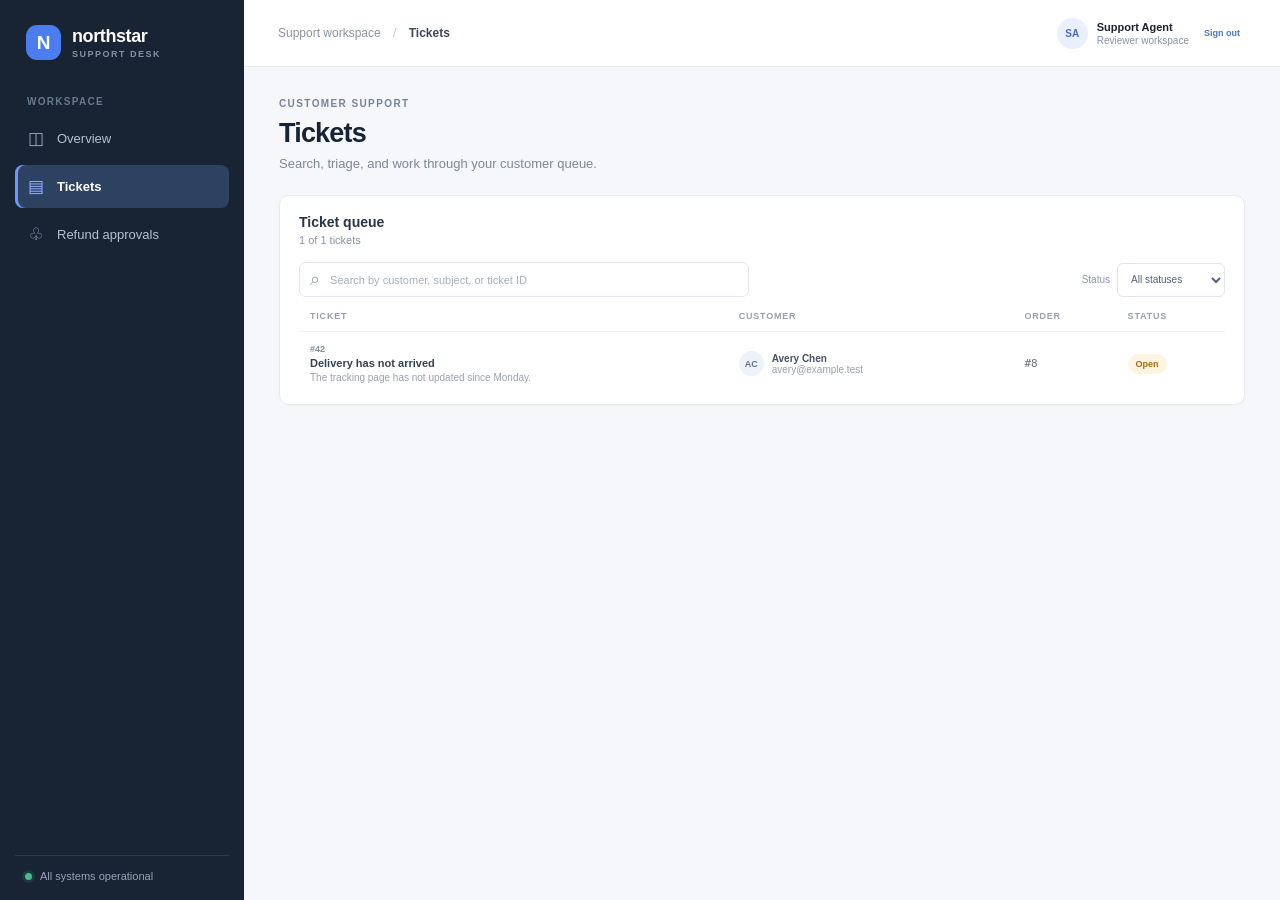
Scenario: support dashboard › searches and filters the ticket queue
The width and height of the screenshot is (1280, 900).
expect the text "Delivery has not arrived" is shown: met, box [310,357,435,369]
Type "nobody" into the field named "Search tickets" at (533, 280), box [328,273,738,287]
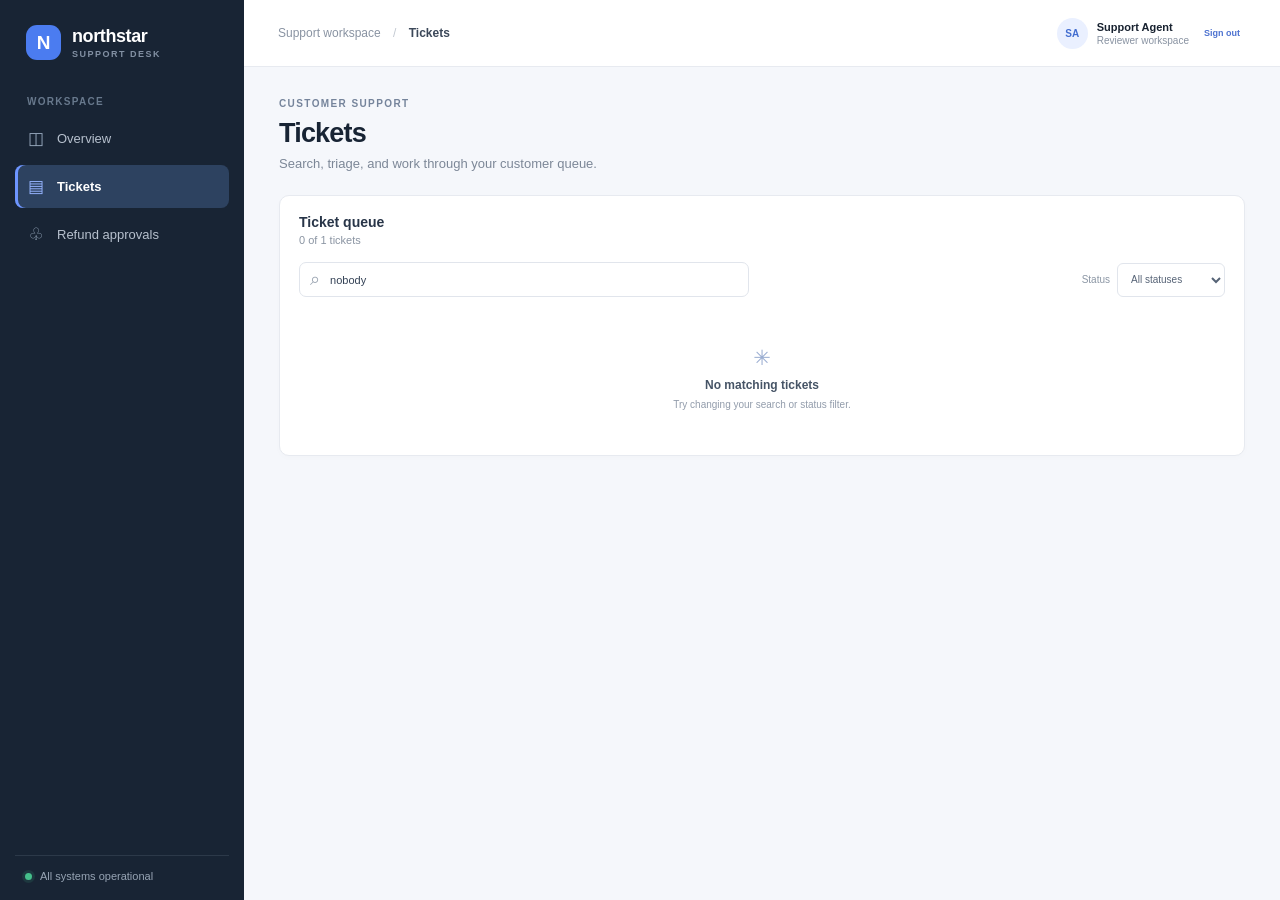
expect the text "No matching tickets" is shown: met, box [705,378,819,392]
Replace the text in the field named "Search tickets" with "avery" at (533, 280), box [328,273,738,287]
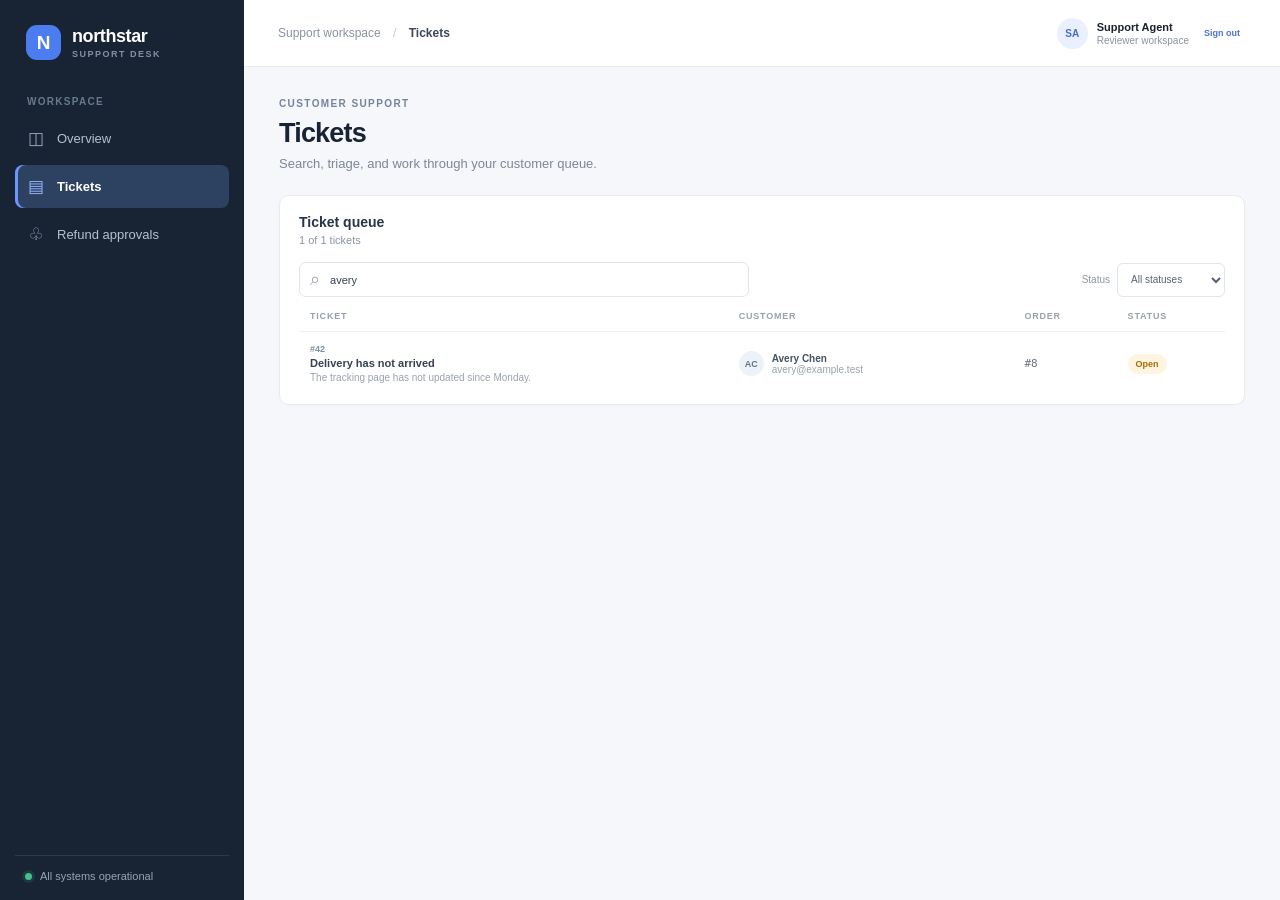
expect the text "Delivery has not arrived" is shown: met, box [310,357,435,369]
